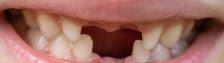Hypodontia: (92, 39, 137, 58), (114, 26, 145, 43), (77, 26, 112, 39)
